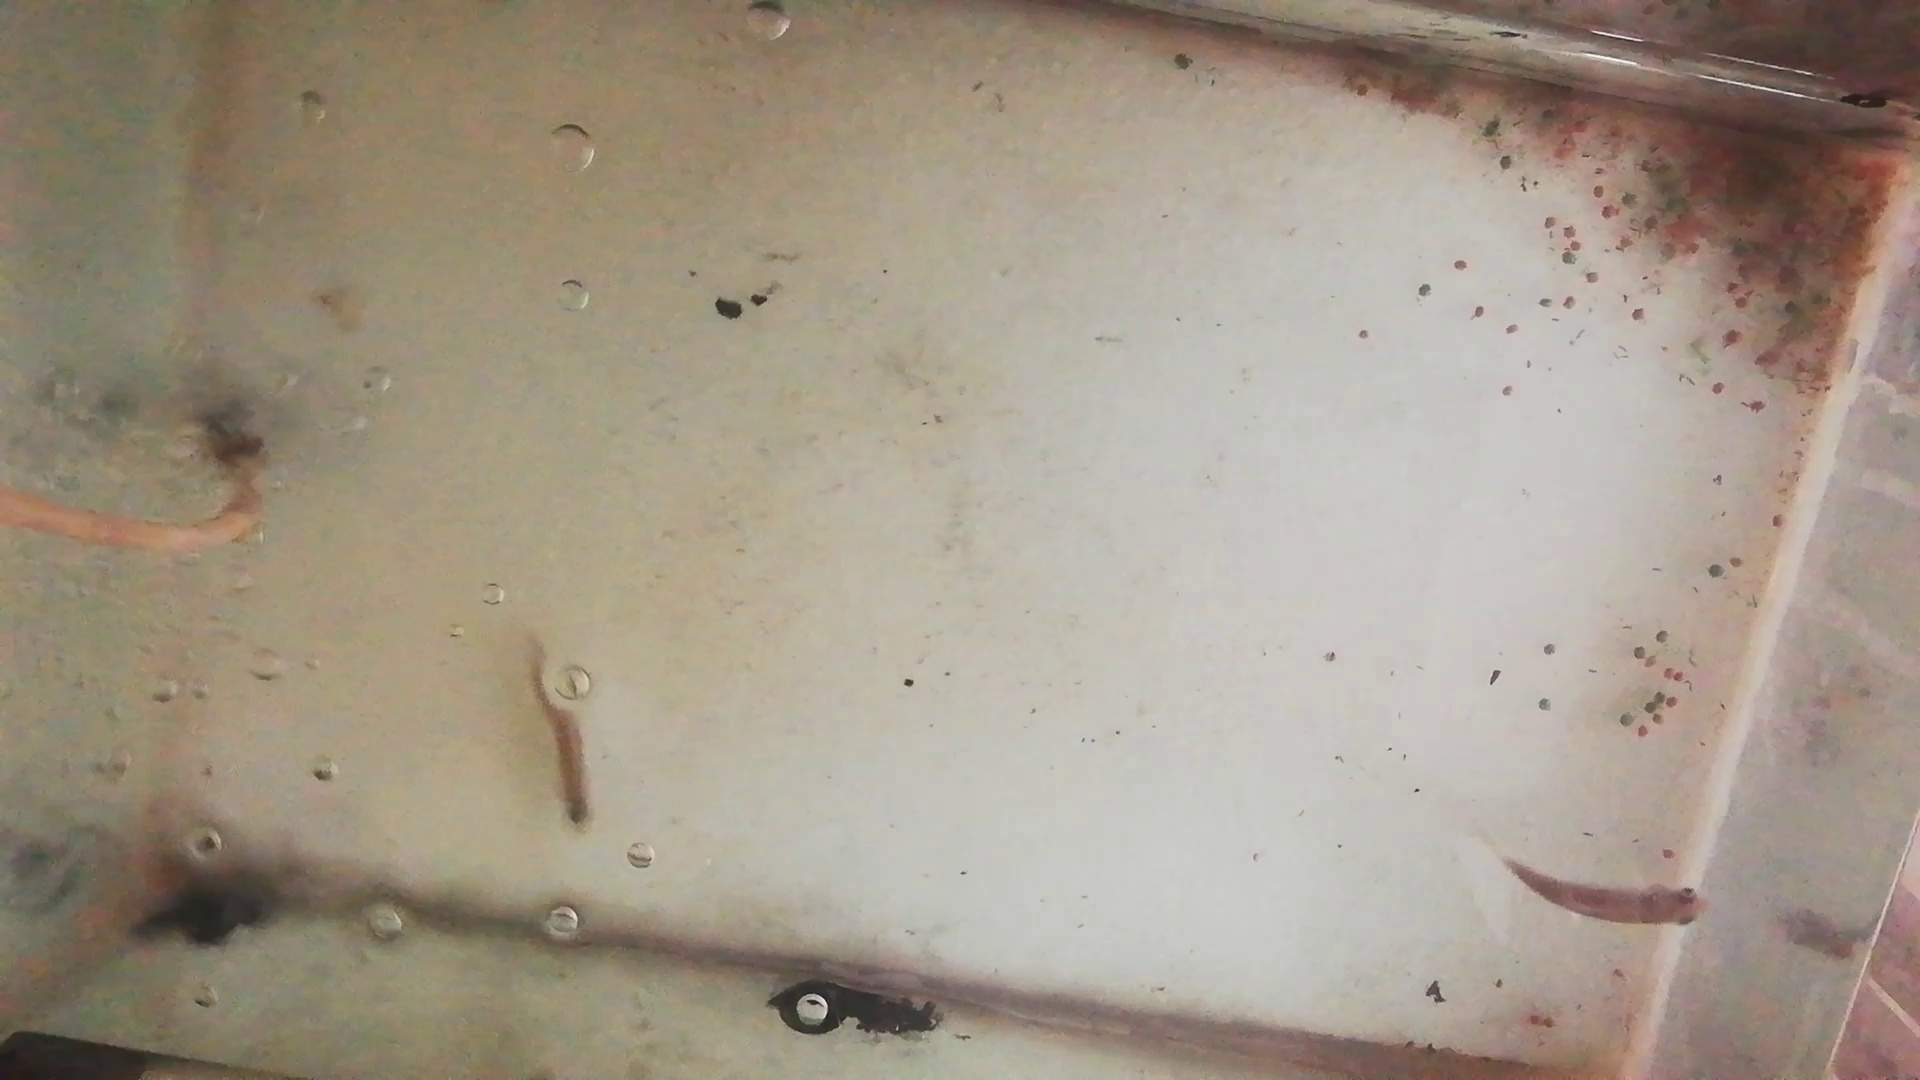fish: (1507, 864, 1709, 934), (526, 640, 596, 832)
